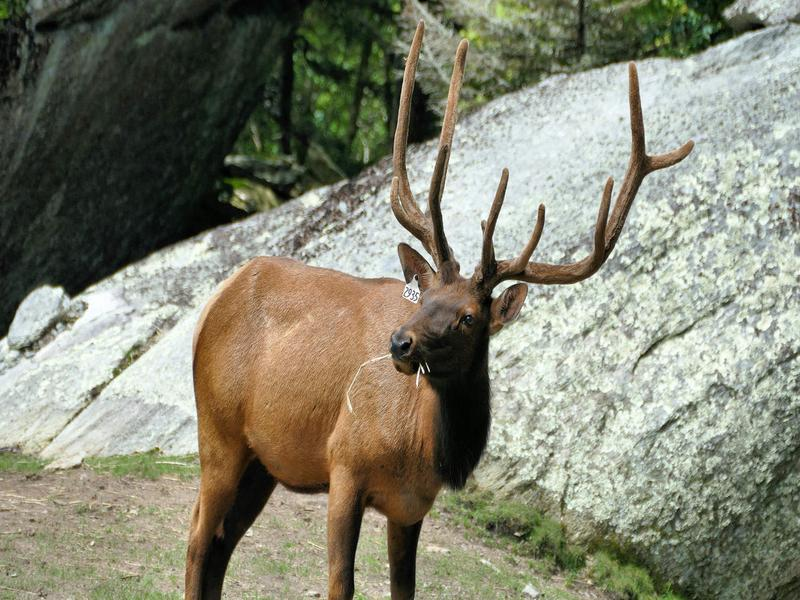elk: (180, 113, 629, 600)
